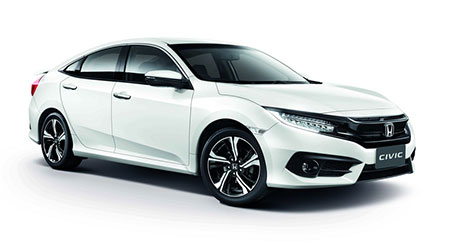sedan: (27, 35, 418, 208)
